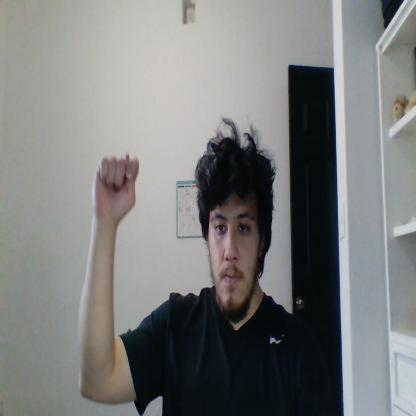T: (94, 153, 140, 222)
